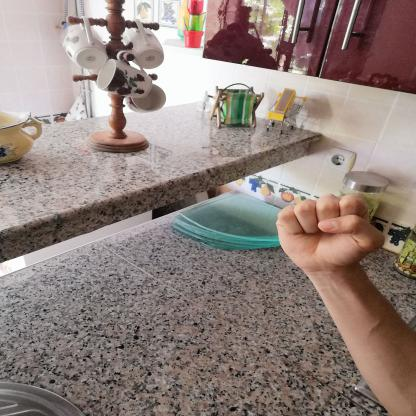SAD: (264, 182, 398, 282)
